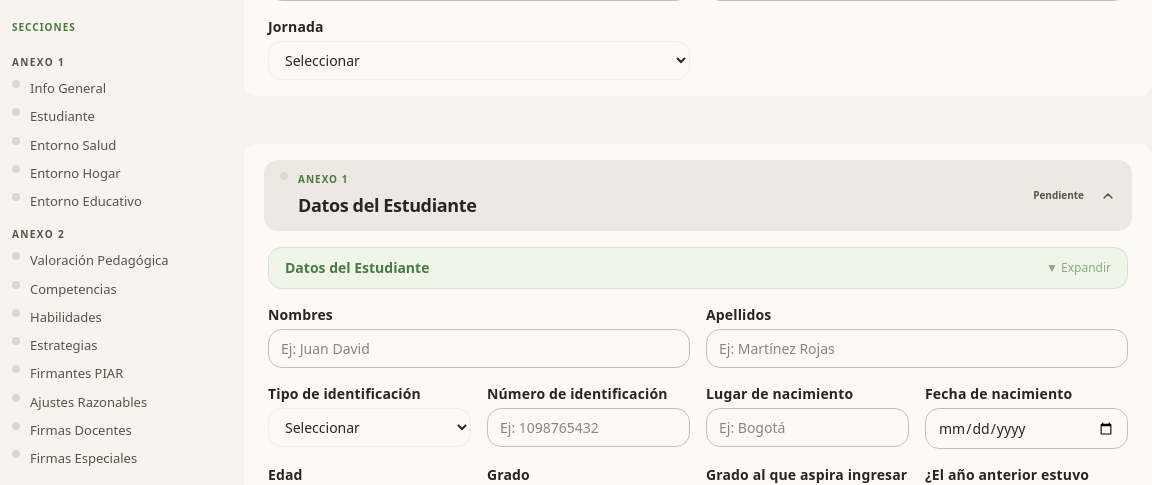
it: PIARForm › shows a non-blocking save error with retry guidance when storage write fails
(page scrolled)
Type "Marta" into the field labelled "Nombres".
click(479, 348); type("Marta")  # box [268,329,690,368]
(page scrolled)
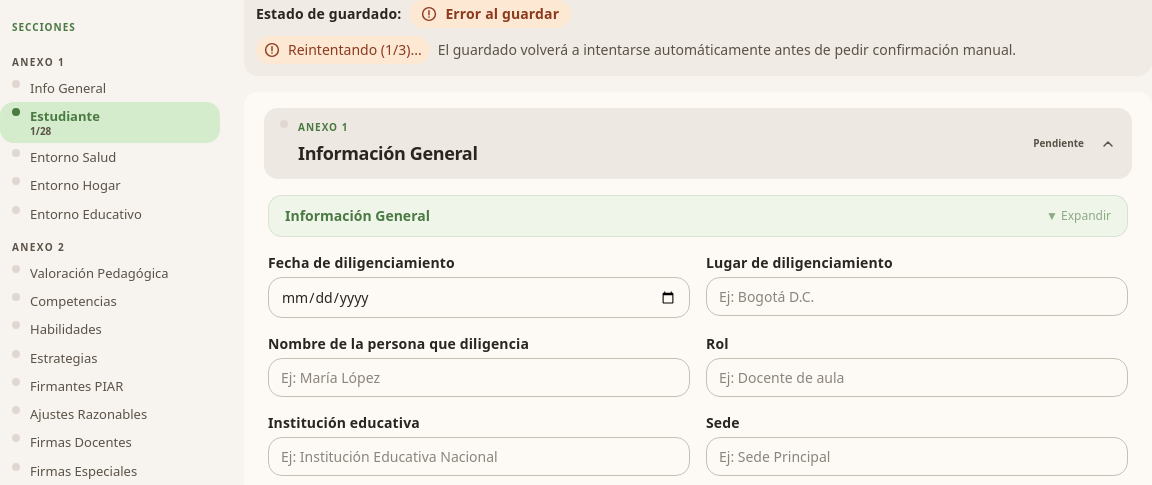
Expected: the text "Reintentando (1/3)..." is shown, [256,36,430,64]
Expected: the message shows "El guardado volverá a intentarse automáticamente antes de pedir confirmación manual.", [438,40,1016,59]
